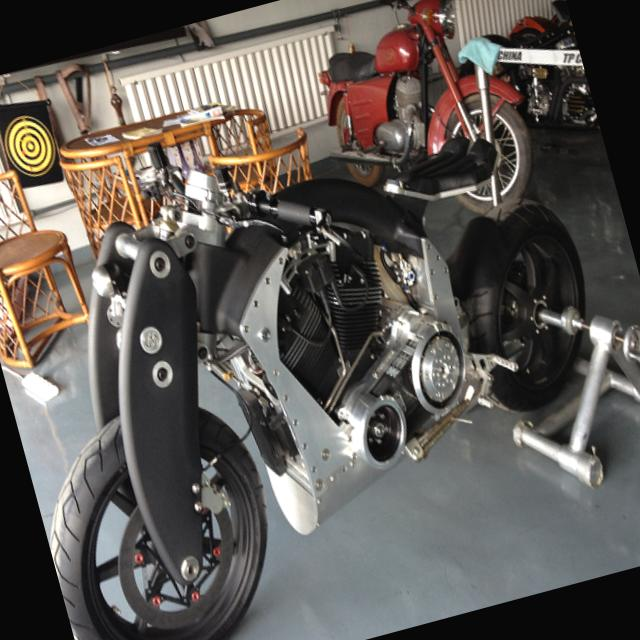Vehicle: (0, 44, 640, 640), (286, 0, 548, 237), (445, 0, 601, 164)
